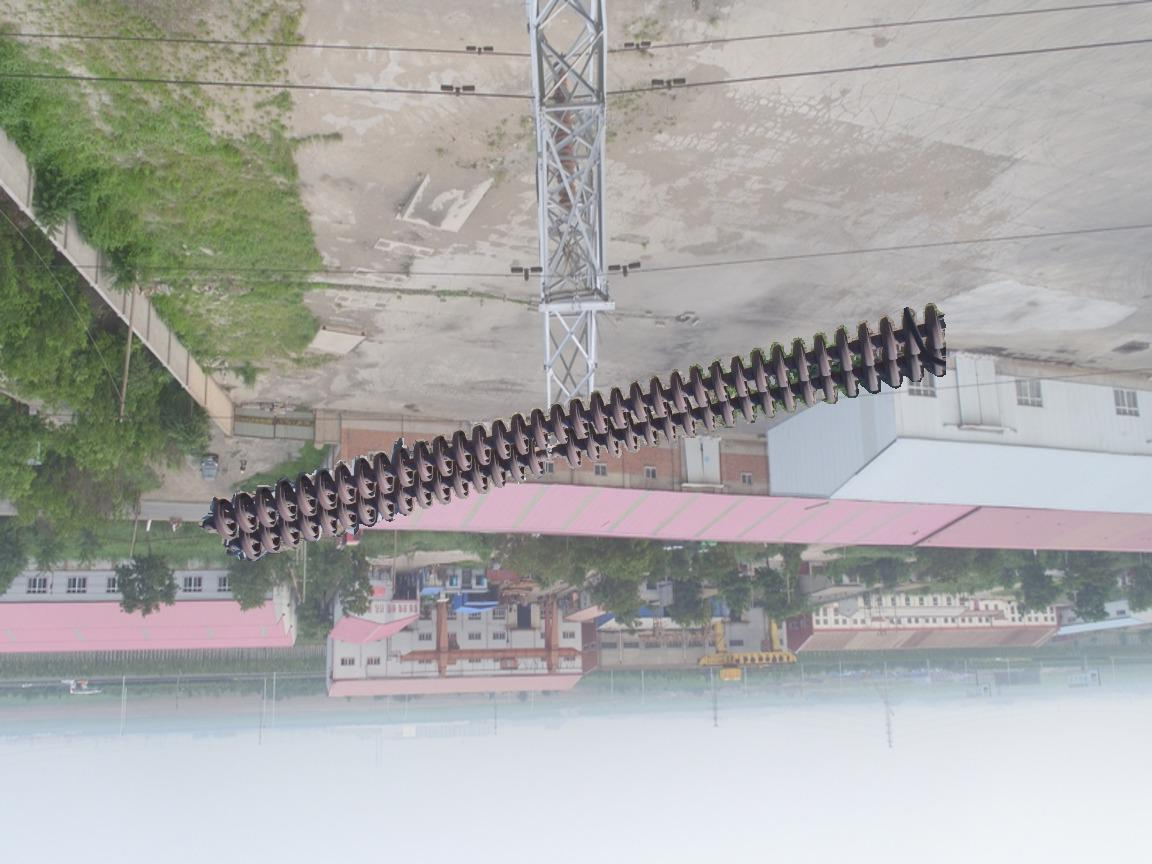insulator: (209, 296, 956, 563), (551, 64, 580, 208)
insulator_stringdrop: (523, 433, 585, 480)
